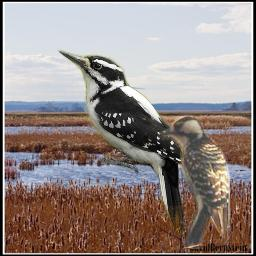Woodpecker: (57, 45, 204, 237), (158, 115, 230, 249)
